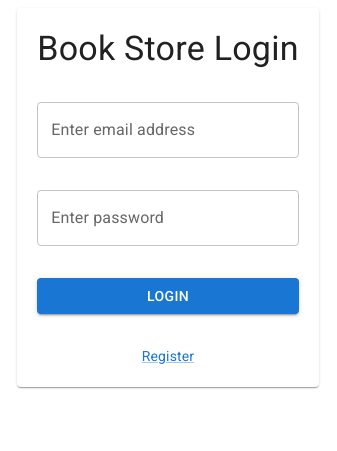
Login test › should show required error messange for email and password
Click the button "Login" at (168, 296), box top-left (37, 278), bottom-right (299, 314)
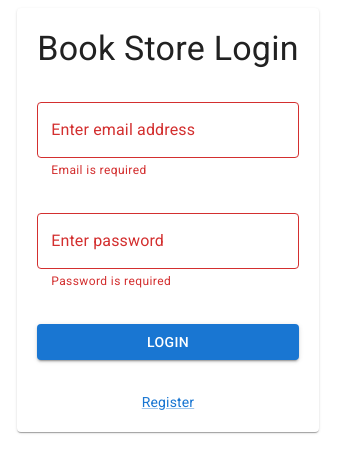
Now the text "Email is required" is shown, box top-left (51, 163), bottom-right (146, 177)
Now the text "Password is required" is shown, box top-left (51, 274), bottom-right (171, 288)
